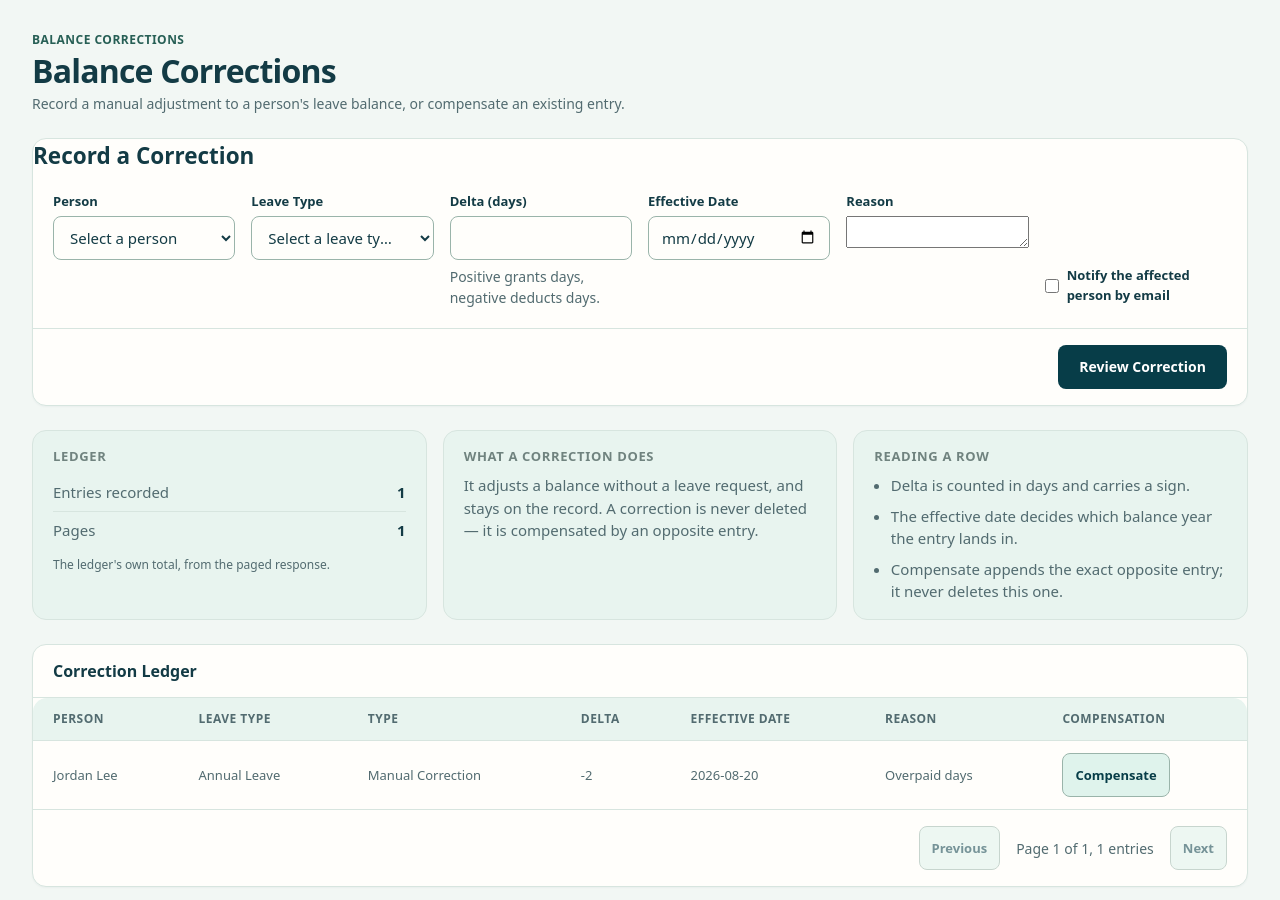
Test case: CorrectionsPage › disables the compensate action for a row after it is compensated
Click the button with test id "correction-compensate-42" at (1116, 775), box [1062, 753, 1170, 797]
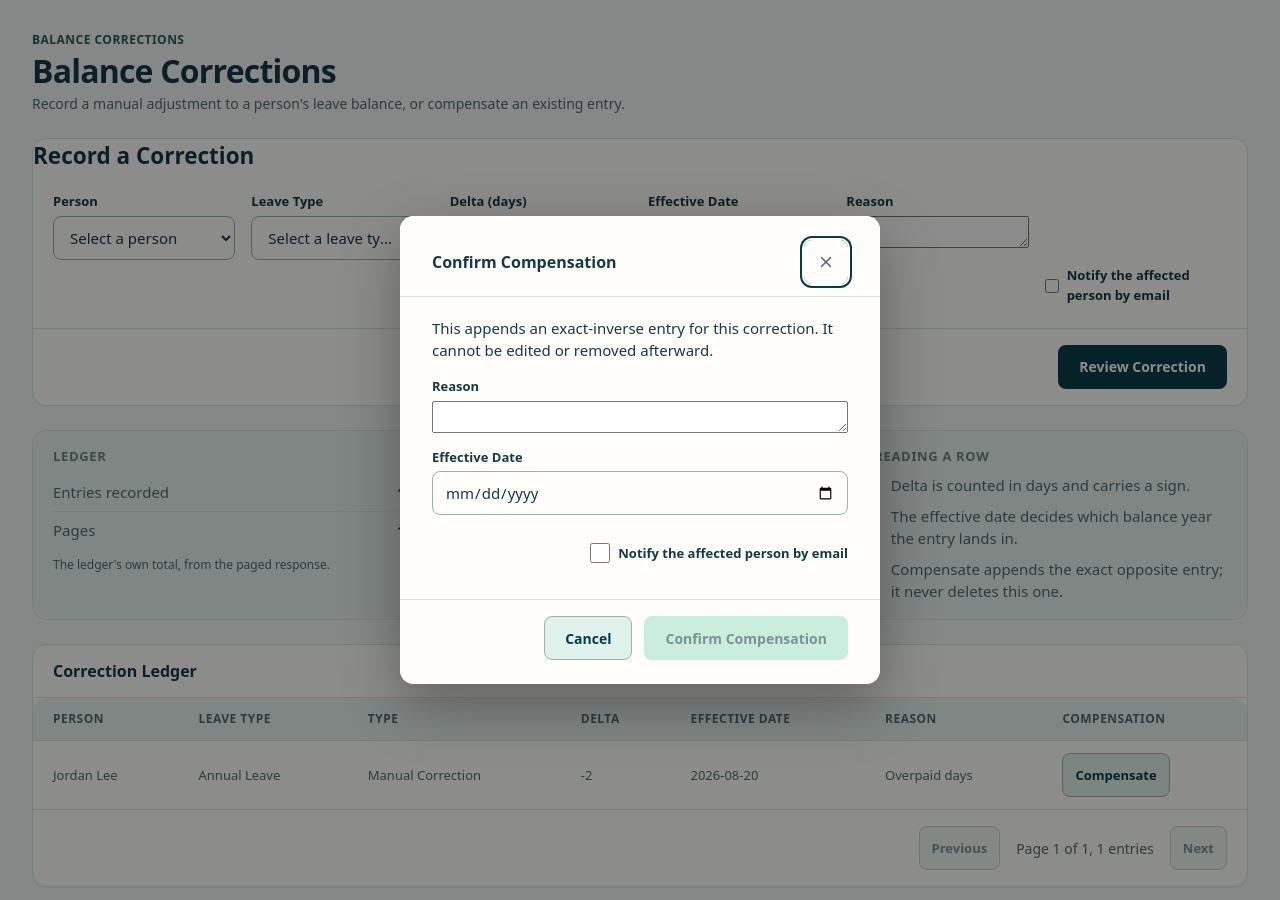
Type "Reversal" into the text box labelled "Reason" at (640, 416), box [432, 400, 848, 432]
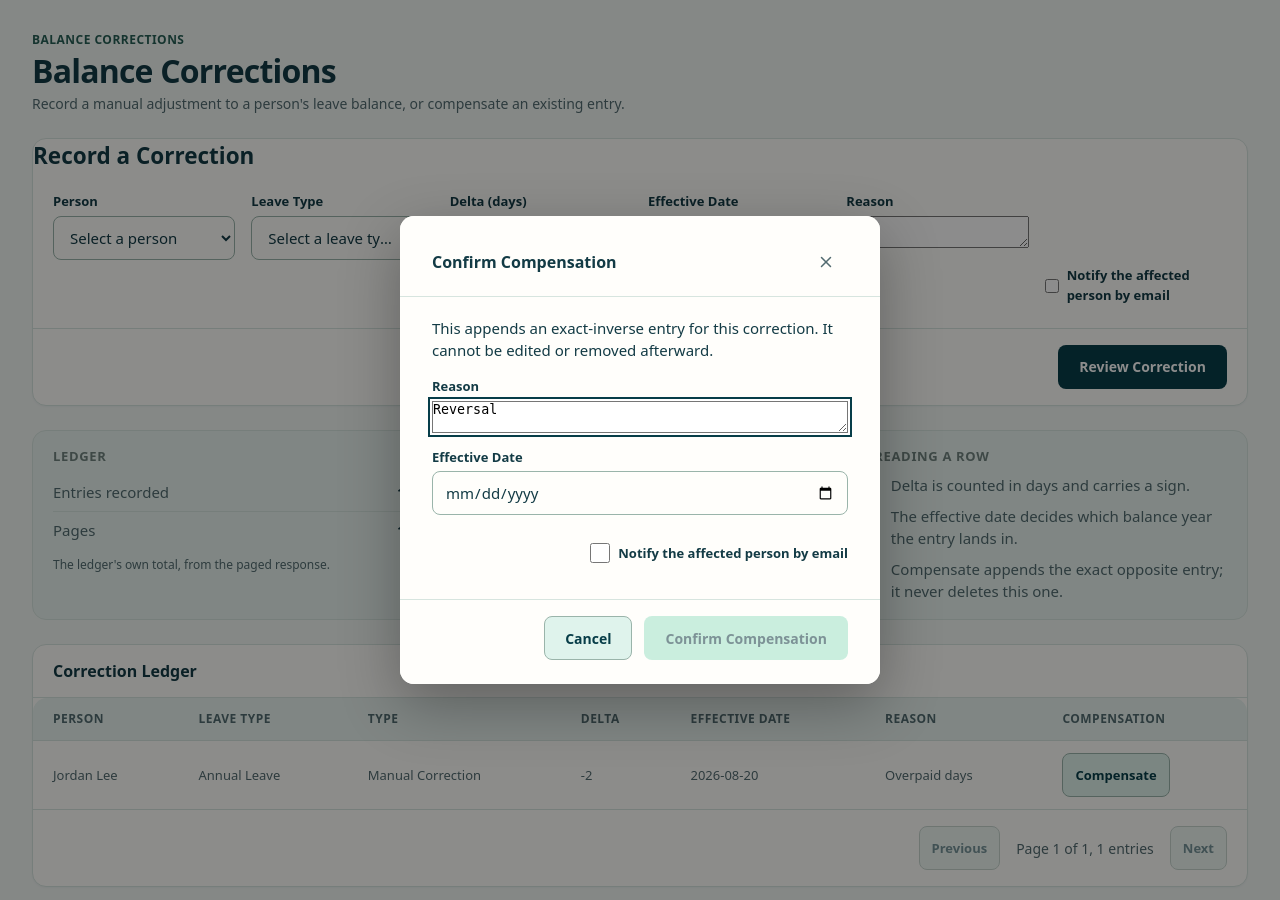
Type "2026-08-21" into the date field labelled "Effective Date" at (640, 493), box [432, 471, 848, 515]
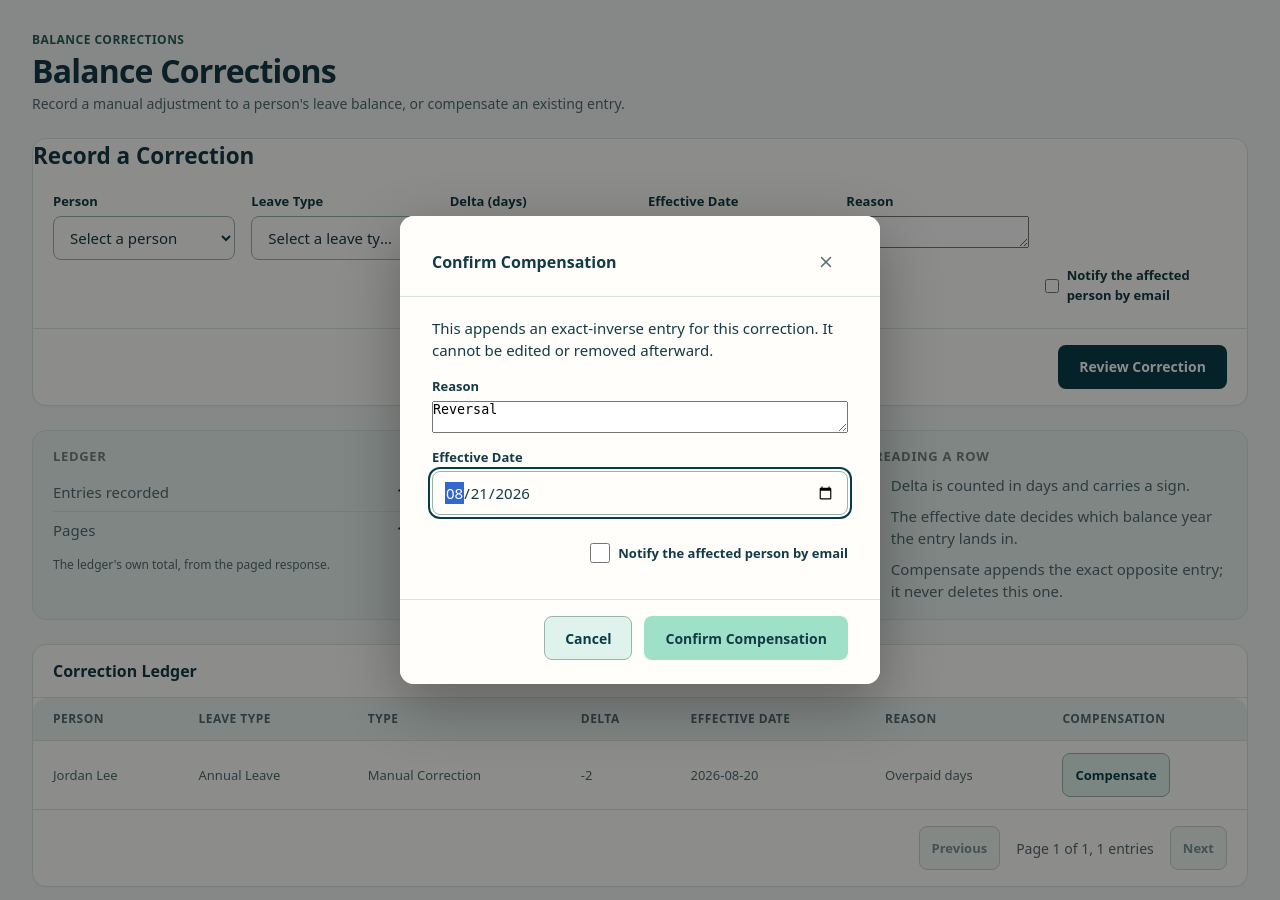
Click the button "Confirm Compensation" at (746, 638), box [644, 616, 848, 660]
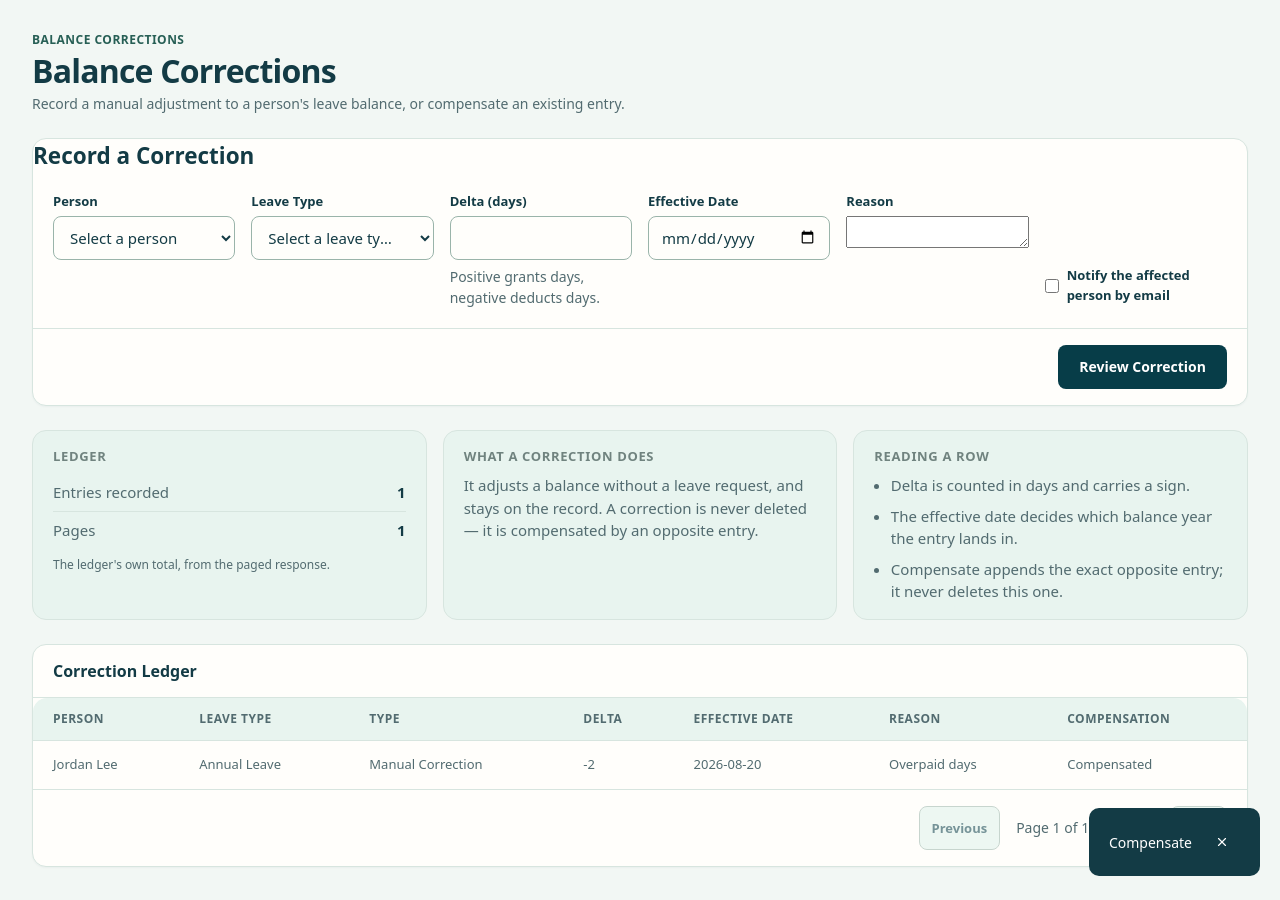
Expected: the text "Compensated" is shown, [1067, 755, 1152, 773]
Expected: the button with test id "correction-compensate-42" is gone
